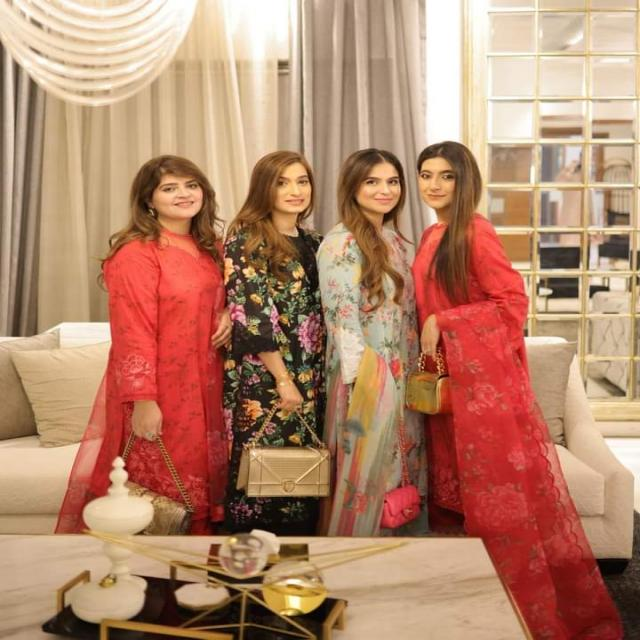female-dress: (420, 219, 614, 612), (89, 243, 226, 505), (318, 224, 428, 526), (224, 240, 325, 528)
